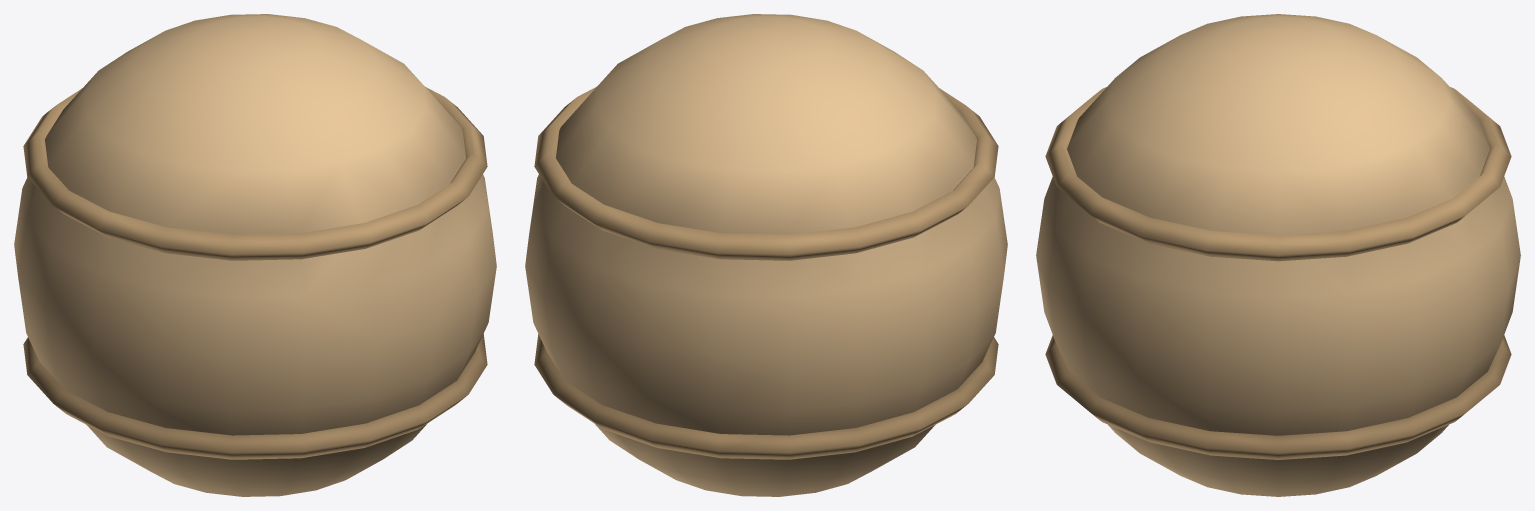
The model's file is BallSmallWood.fbx.
3 views of the same model, side by side, from view 1: azimuth 30°, elevation 25°; view 2: azimuth 150°, elevation 25°; view 3: azimuth 270°, elevation 25° (orthographic).
Visible parts, largest first — view 1: BallSmallWood; view 2: BallSmallWood; view 3: BallSmallWood.
Boxes of the visible parts, x1,y1,x2,y2 form: BallSmallWood: (14, 14, 496, 496); BallSmallWood: (525, 14, 1007, 496); BallSmallWood: (1036, 14, 1520, 496).
Size of the model in its own units: 1.3 by 1.3 by 1.3.
